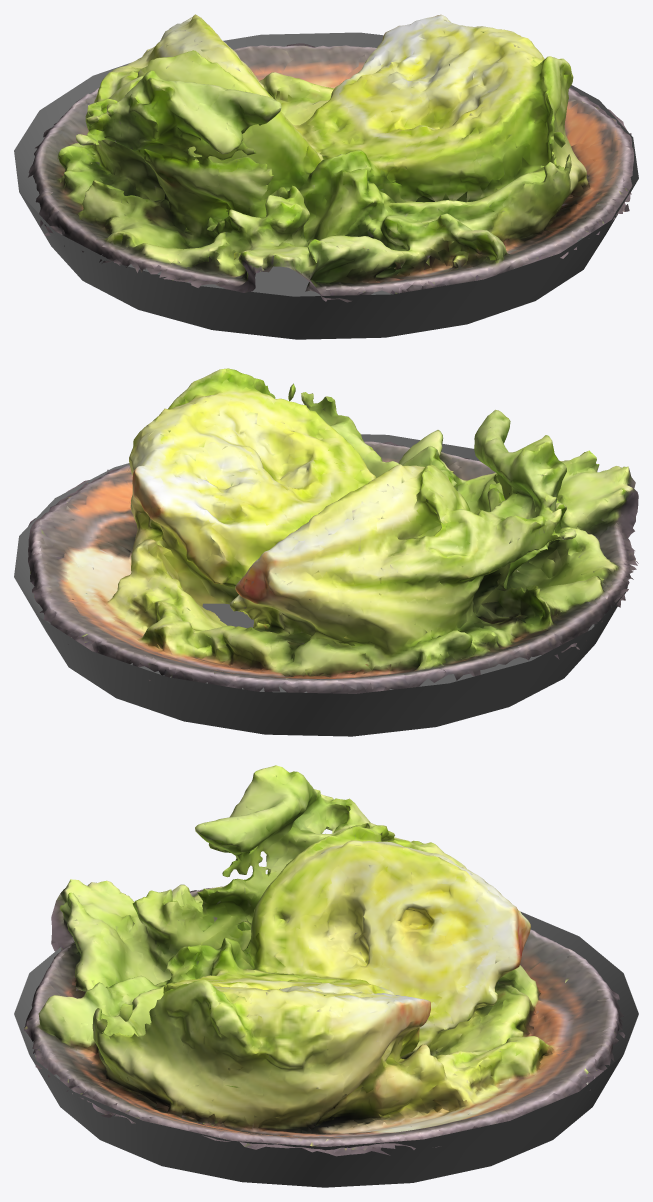
The model's file is lettuce.glb.
3 renders of one model, top to bottom at view 1: azimuth 30°, elevation 25°; view 2: azimuth 150°, elevation 25°; view 3: azimuth 270°, elevation 25°, orthographic.
Visible parts, largest first — view 1: Object_2, Object_3, Object_4; view 2: Object_2, Object_3, Object_4; view 3: Object_2, Object_3, Object_4.
Part boxes in pixels (left/top/right/bottom): Object_2: left=28, top=14, right=633, bottom=302; Object_3: left=28, top=21, right=633, bottom=302; Object_4: left=14, top=32, right=638, bottom=339; Object_2: left=28, top=368, right=638, bottom=693; Object_3: left=28, top=369, right=638, bottom=693; Object_4: left=14, top=434, right=627, bottom=736; Object_2: left=24, top=767, right=624, bottom=1156; Object_3: left=24, top=765, right=625, bottom=1155; Object_4: left=14, top=912, right=638, bottom=1187.
Size of the model in its own units: 11501 by 4216 by 11476.
2 materials, 1 textured.
